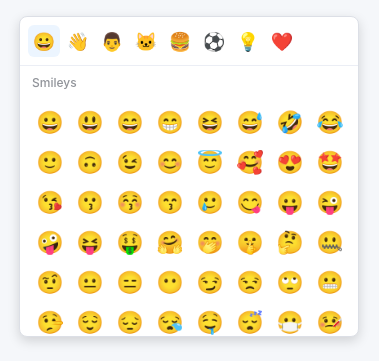
Scenario: EmojiPicker › Category Navigation › should switch categories on tab click
# Click on Animals category (index 3)
Click the text with class "category-tab" showing "🐱" at {"x": 146, "y": 41}, box [135,30,157,52]
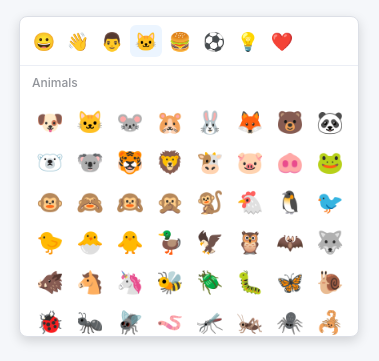
expect the text with class "emoji-category-name" reads "Animals": met, box [32,75,78,90]
